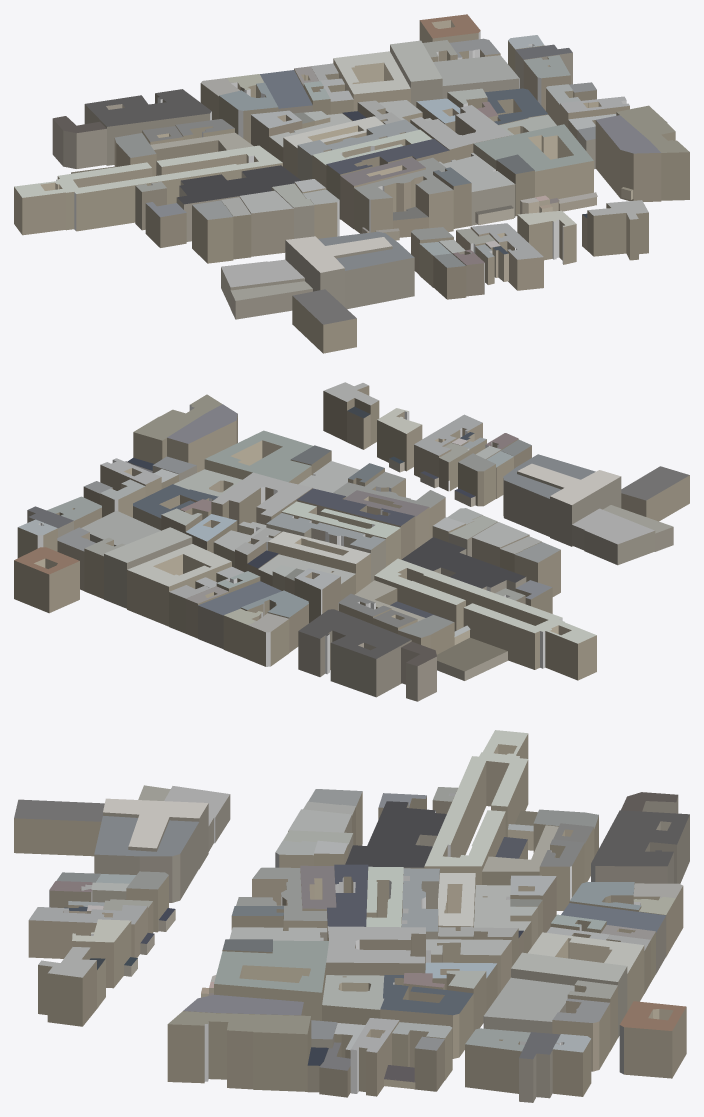
3 views of the same model, one above another, from view 1: azimuth 30°, elevation 25°; view 2: azimuth 150°, elevation 25°; view 3: azimuth 270°, elevation 25° (orthographic). The views are drawn at different scales.
Visible parts, largest first — view 1: tuile; view 2: tuile; view 3: tuile.
Part boxes in pixels (<box>): tuile: <box>14,14,689,353</box>; tuile: <box>14,382,689,701</box>; tuile: <box>14,730,689,1102</box>.
Size of the model in its own units: 322 by 30.49 by 278.
